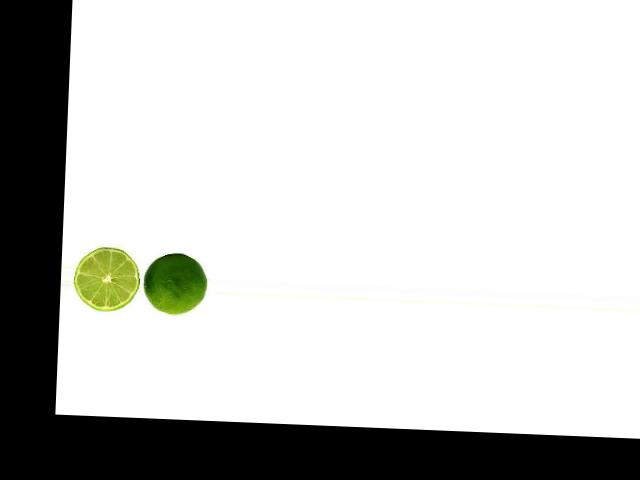lemon: (143, 248, 207, 314)
